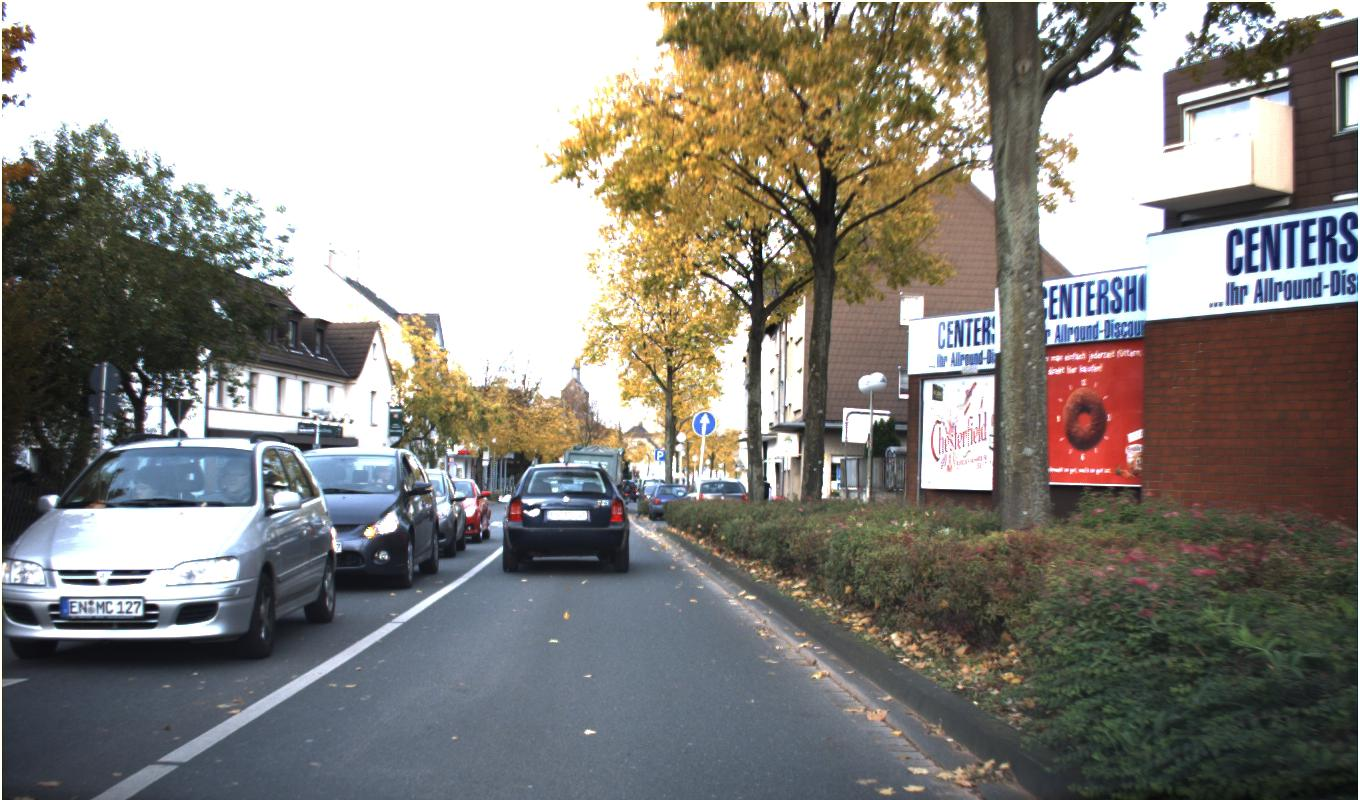mandatory: (692, 410, 717, 436)
